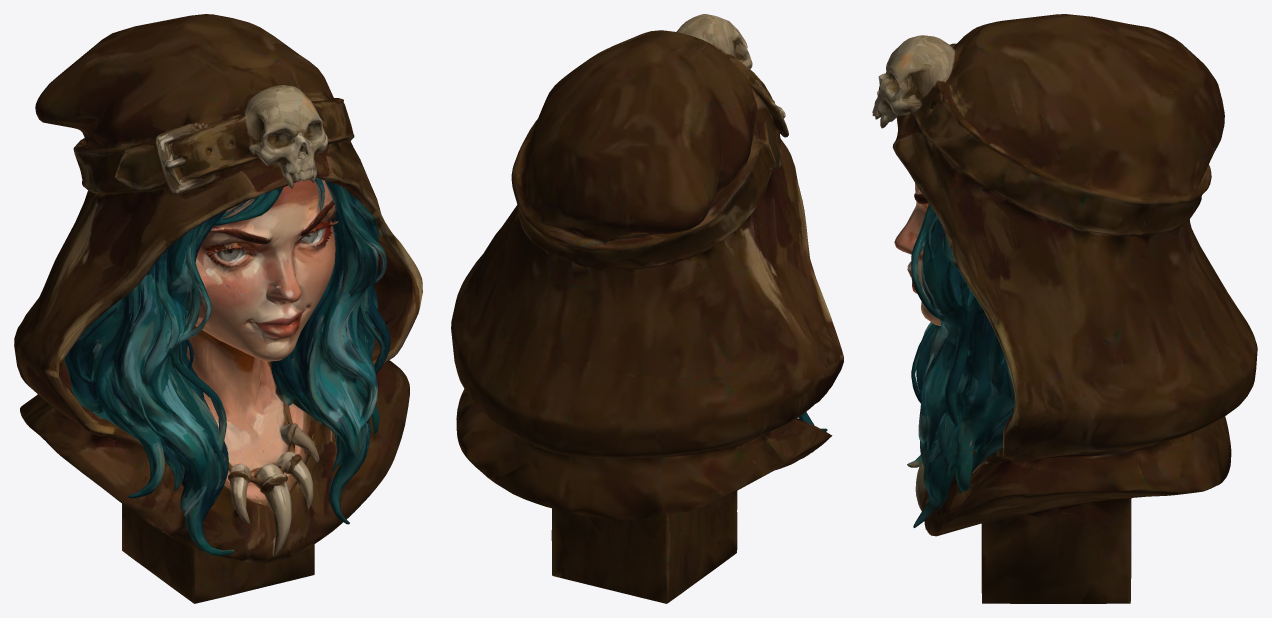
Rendered from profile.glb.
3 renders of one model, left to right at view 1: azimuth 30°, elevation 25°; view 2: azimuth 150°, elevation 25°; view 3: azimuth 270°, elevation 25°, orthographic. The views are drawn at different scales.
Bounding box in the file's own units: 1.39 × 1.9 × 1.21.
1 material, 1 textured.
